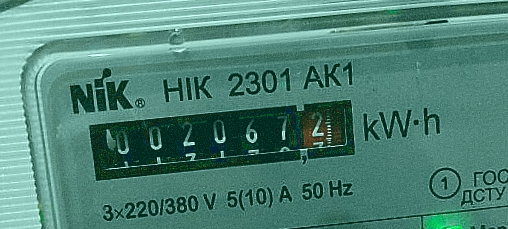0: (111, 126, 132, 157), (145, 121, 165, 151), (208, 114, 228, 144)
2: (306, 107, 327, 138), (178, 118, 197, 148)
6: (241, 114, 261, 145)
7: (273, 111, 292, 142)
screen: (73, 83, 372, 194)
